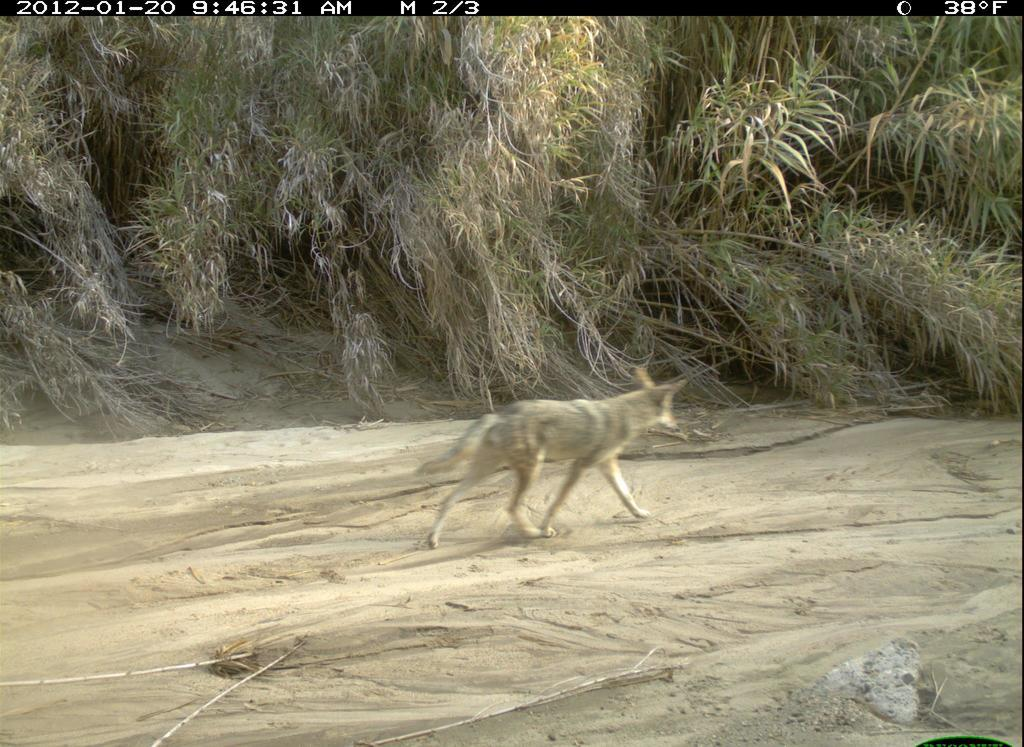coyote: (409, 359, 697, 557)
